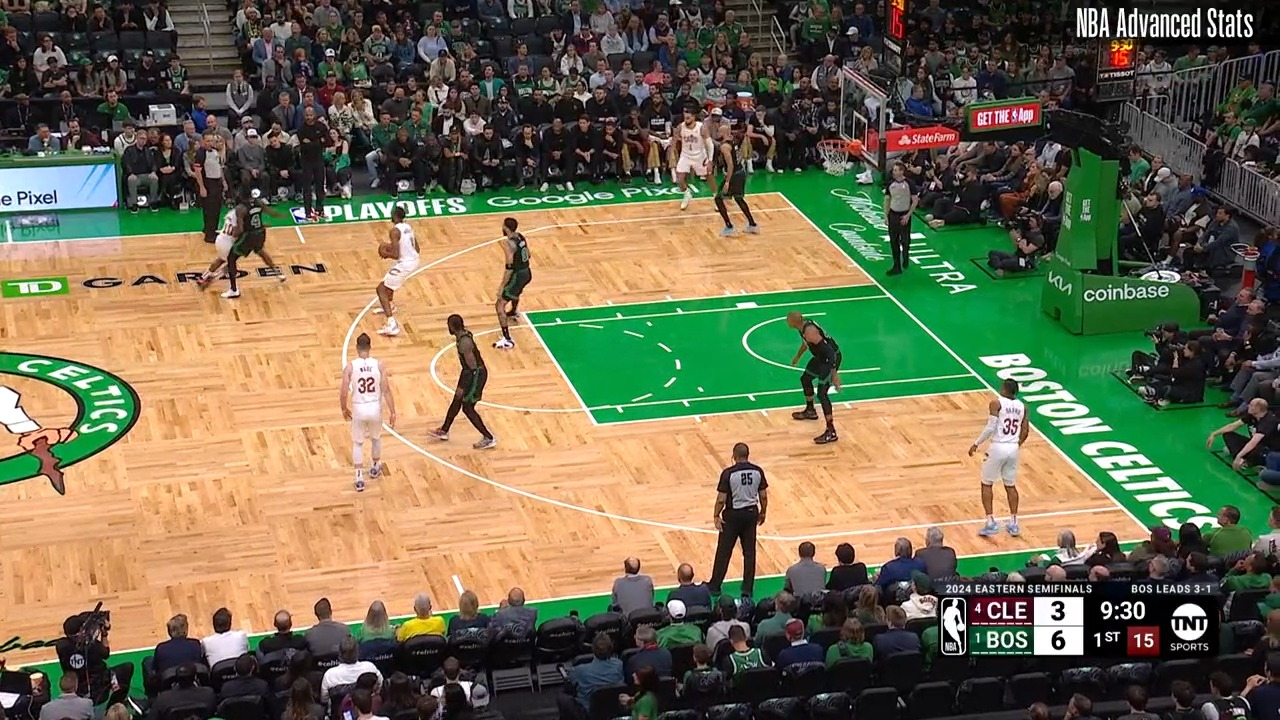basketball: (377, 240, 395, 258)
